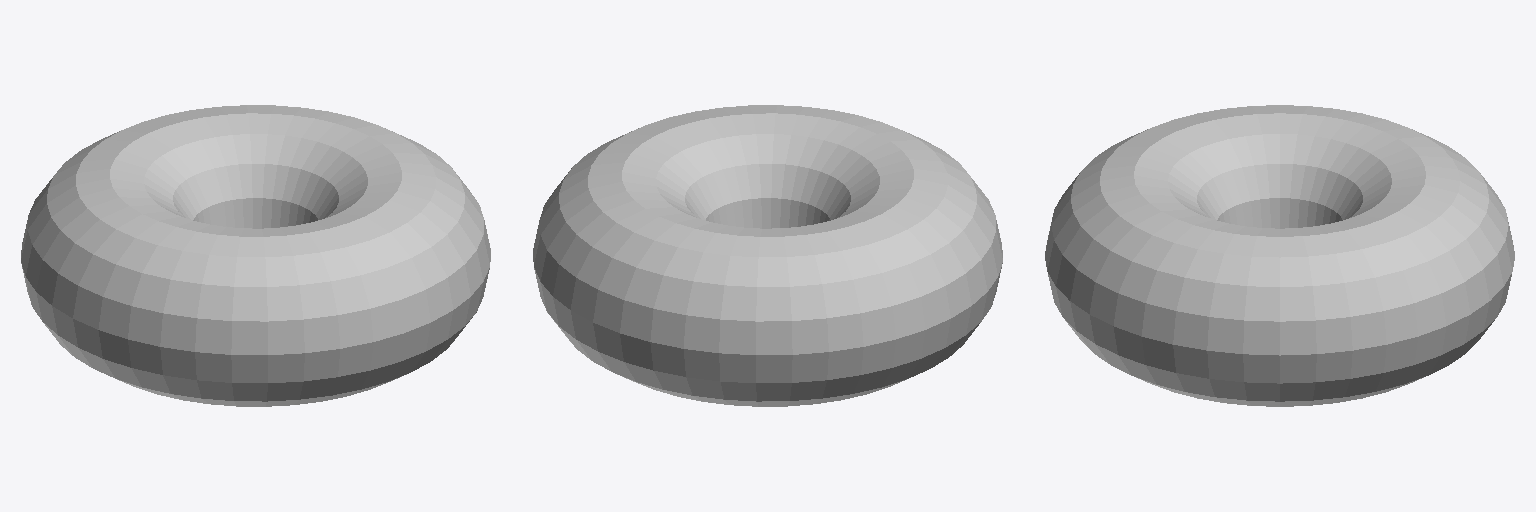
The model's file is donut_deneme.obj.
3 renders of one model, left to right at view 1: azimuth 30°, elevation 25°; view 2: azimuth 150°, elevation 25°; view 3: azimuth 270°, elevation 25°, orthographic.
Parts seen in each view (by area): view 1: Torus; view 2: Torus; view 3: Torus.
Boxes of the visible parts, <box> form: Torus: <box>21,105,490,406</box>; Torus: <box>533,105,1002,406</box>; Torus: <box>1045,105,1514,406</box>.
Size of the model in its own units: 3.22 by 1.22 by 3.22.